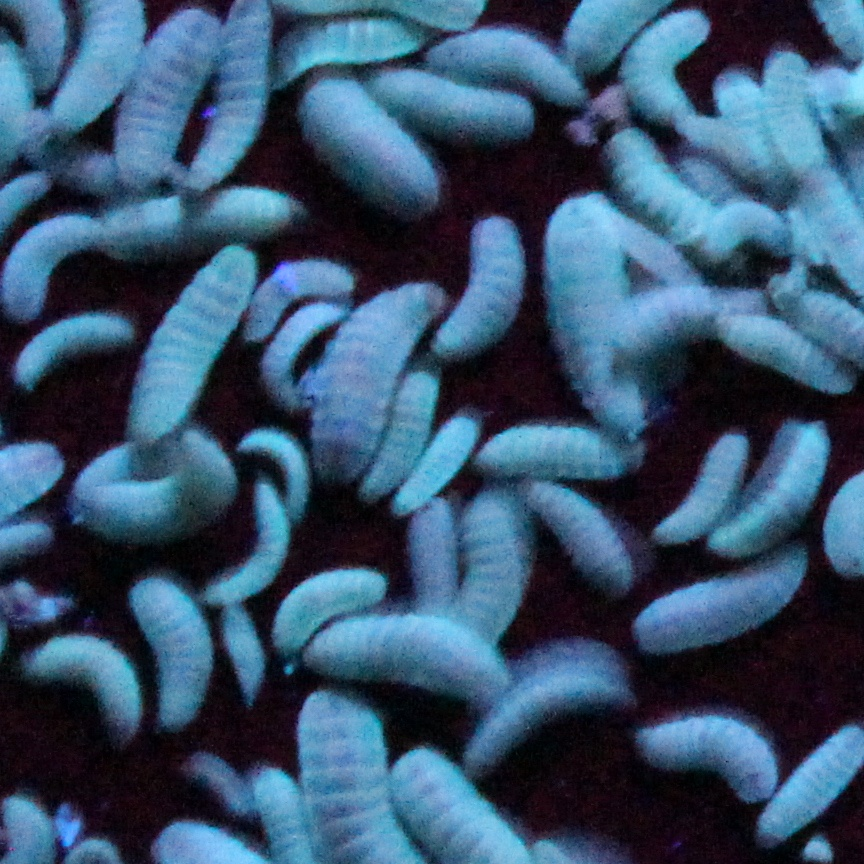larve: (529, 187, 642, 446), (308, 287, 458, 480), (124, 249, 267, 451), (295, 69, 456, 201), (622, 549, 817, 655), (110, 8, 224, 189), (74, 428, 245, 530), (715, 419, 833, 562), (122, 562, 217, 739), (308, 619, 513, 701), (631, 705, 792, 801), (472, 655, 613, 760), (608, 128, 726, 253), (442, 210, 538, 360), (522, 478, 647, 587), (601, 10, 722, 121), (597, 274, 731, 374), (429, 19, 576, 105), (1, 210, 117, 317), (35, 630, 151, 737), (647, 430, 756, 542), (279, 12, 433, 89), (374, 62, 540, 133), (722, 303, 851, 394), (756, 39, 831, 187), (256, 301, 358, 405), (13, 308, 133, 396), (267, 564, 390, 649), (238, 258, 356, 346), (213, 478, 288, 612), (363, 378, 442, 496), (713, 71, 792, 183), (390, 421, 483, 510), (483, 428, 624, 478), (706, 196, 797, 271), (208, 592, 267, 705), (242, 433, 313, 510), (195, 187, 301, 228)
